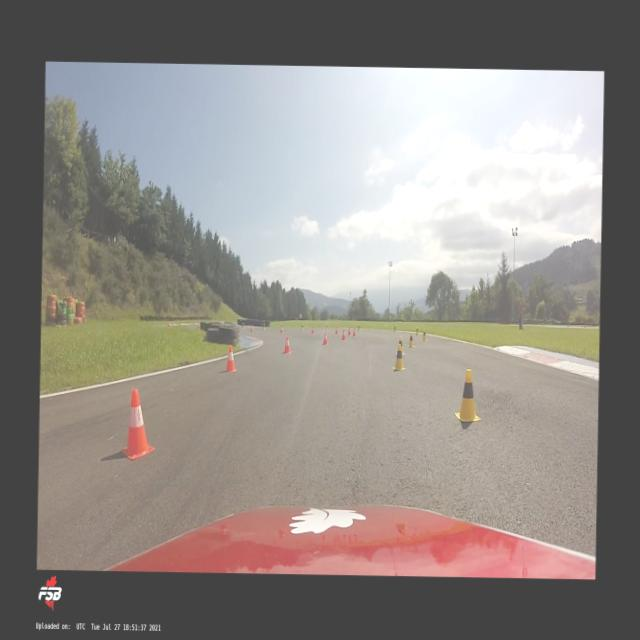orange_cone: (120, 388, 155, 459), (225, 345, 237, 372), (282, 336, 291, 353), (322, 331, 328, 345), (342, 329, 346, 340), (352, 327, 356, 336), (335, 326, 338, 334), (311, 326, 314, 334), (280, 325, 283, 333), (250, 325, 253, 332), (348, 326, 350, 336), (197, 322, 200, 328), (168, 322, 170, 326), (180, 322, 182, 326), (172, 322, 173, 324)
yellow_cone: (454, 368, 481, 421), (392, 344, 405, 371), (398, 336, 404, 356), (407, 333, 414, 348), (422, 331, 426, 341), (415, 327, 418, 335), (301, 323, 304, 330), (393, 326, 396, 332), (325, 325, 328, 331), (242, 322, 244, 328), (358, 325, 360, 331), (263, 324, 265, 329)
